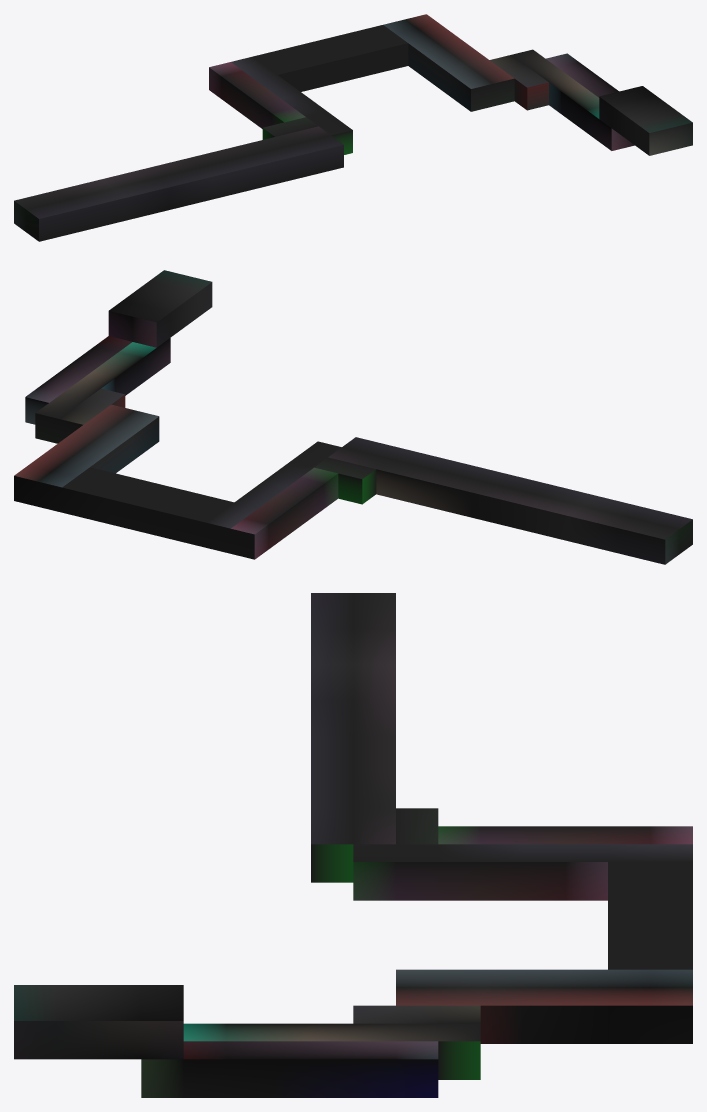
File: Cable_N_00.fbx
3 views of the same model, one above another, from view 1: azimuth 30°, elevation 25°; view 2: azimuth 150°, elevation 25°; view 3: azimuth 270°, elevation 25° (orthographic). The views are drawn at different scales.
Parts seen in each view (by area): view 1: Cable_N_00; view 2: Cable_N_00; view 3: Cable_N_00.
Boxes of the visible parts, x1,y1,x2,y2 form: Cable_N_00: (14,14,692,241); Cable_N_00: (14,270,692,564); Cable_N_00: (14,593,692,1097).
Bounding box in the file's own units: 130 × 10 × 80.
